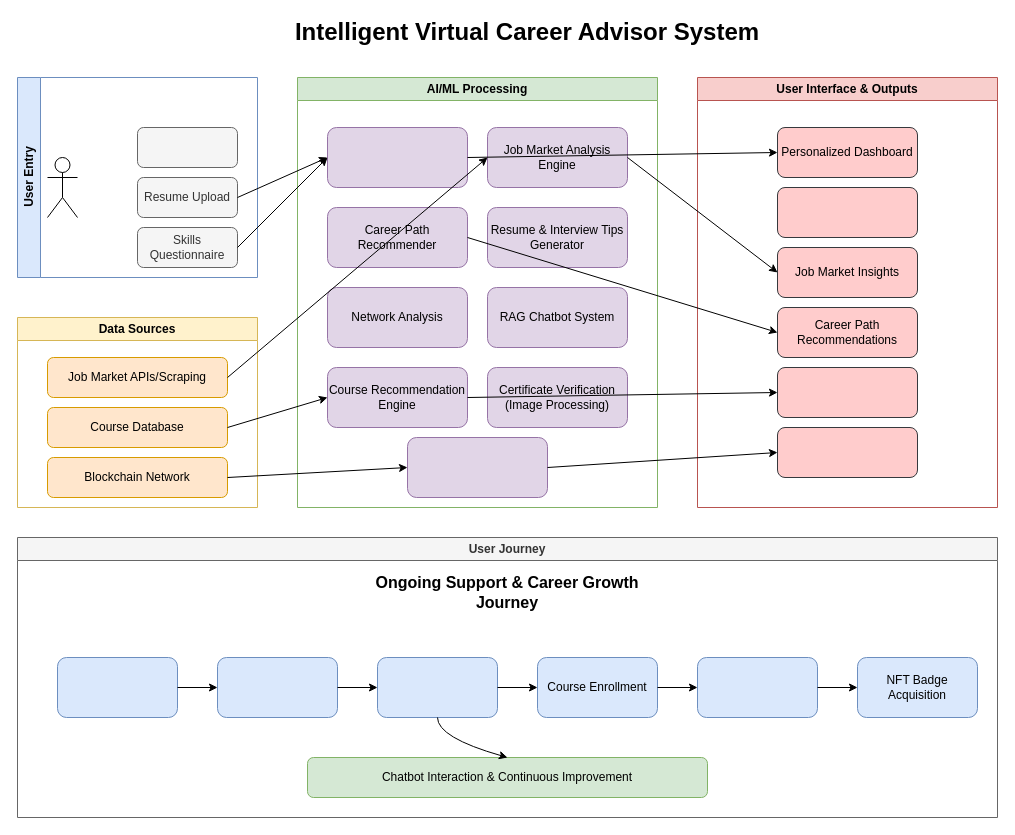
This 1015x835 diagram has some shape labels left out. The box of each missing label's shape, as (x1, y1, x2, y2) in pixels:
Career Recommendations: (376, 656, 498, 718)
Certificate Verification: (696, 656, 818, 718)
Course Suggestions: (776, 366, 918, 418)
Login/Registration: (136, 126, 238, 168)
NFT Badge Generator (Blockchain): (406, 436, 548, 498)
NFT Skill Badges: (776, 426, 918, 478)
Profile Creation: (56, 656, 178, 718)
Skills Assessment: (216, 656, 338, 718)
Skills Assessment Model (NLP): (326, 126, 468, 188)
Skills Assessment Reports: (776, 186, 918, 238)
User: (46, 156, 78, 218)
